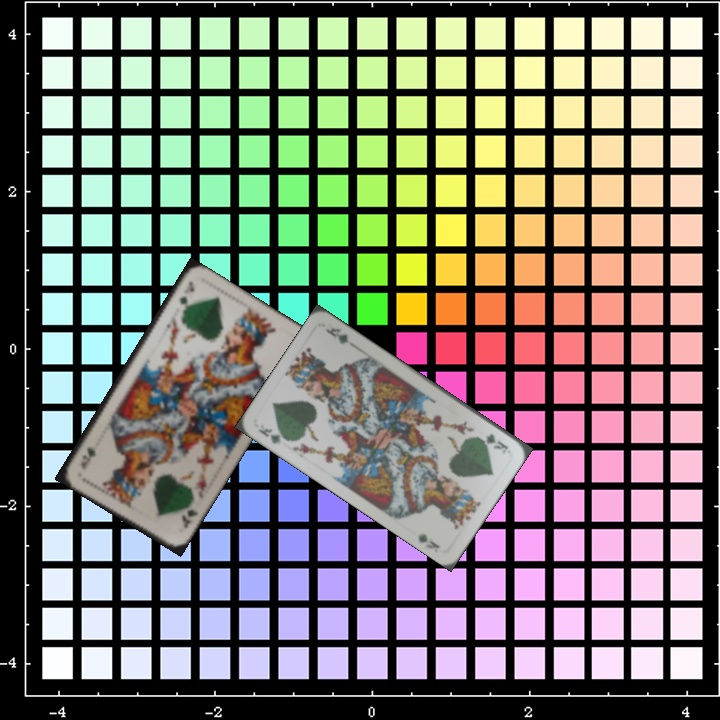GK: (254, 424, 292, 447), (175, 277, 198, 307), (482, 429, 511, 452), (178, 505, 201, 531)
